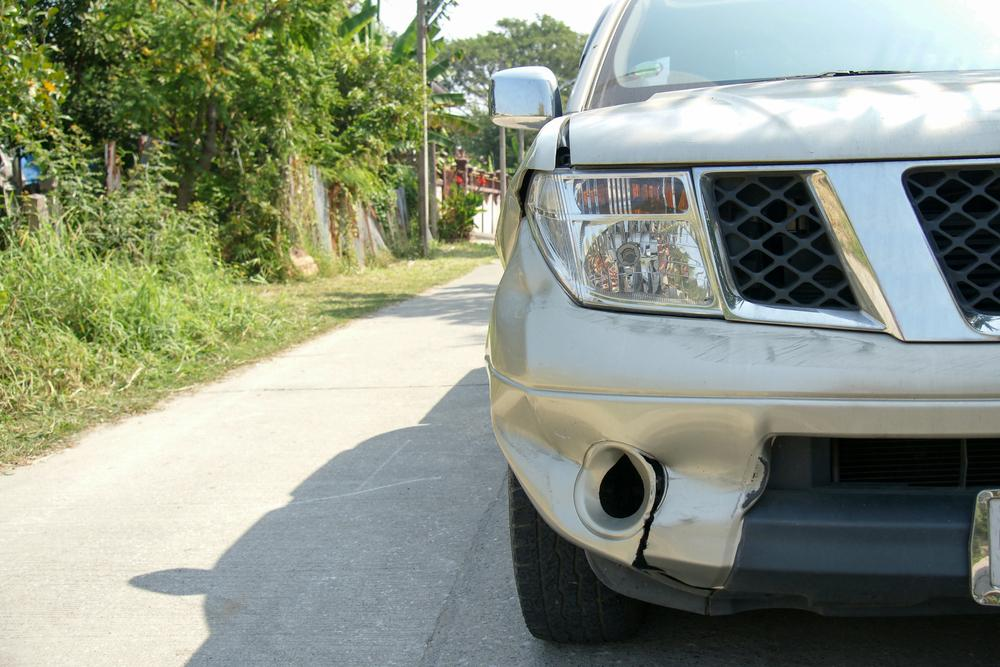crack: (631, 452, 716, 615)
dent: (494, 393, 619, 524), (638, 415, 765, 528), (497, 273, 550, 323)
scratch: (586, 312, 924, 368)
